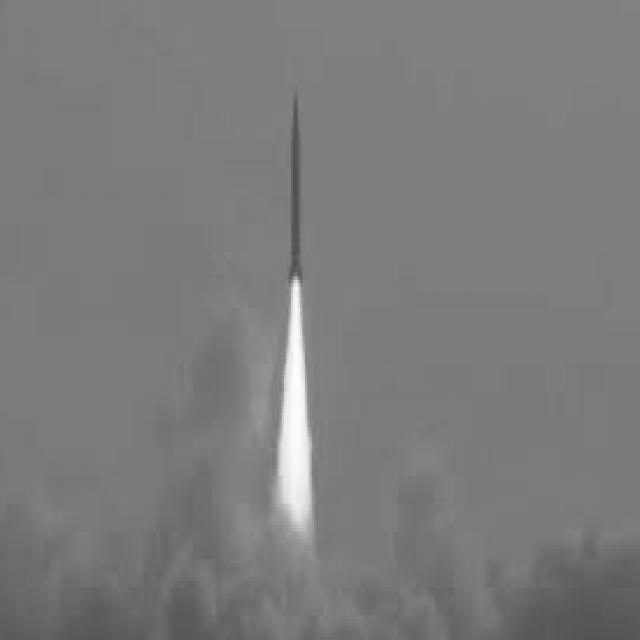missile: (284, 82, 303, 290)
